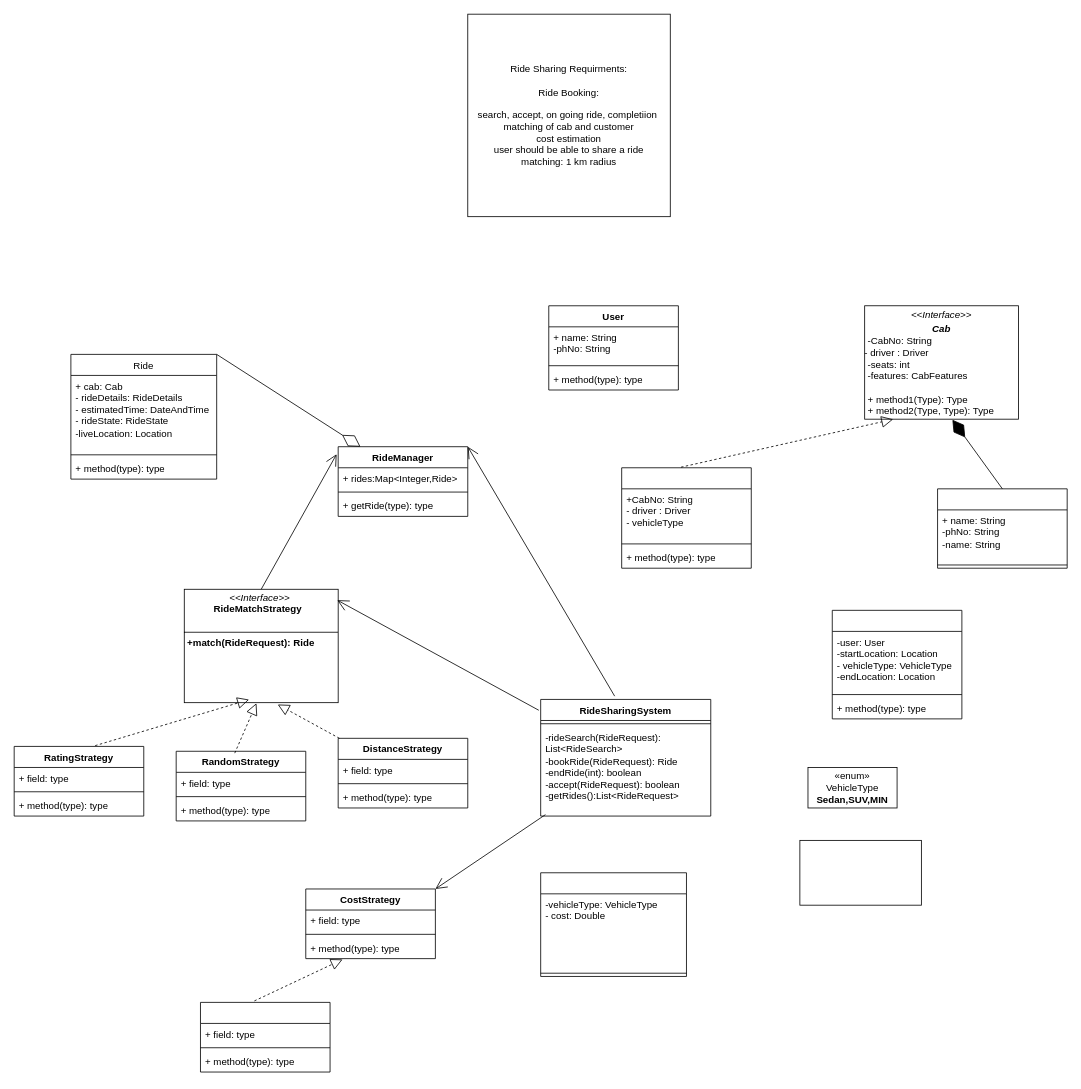
Image size: 1081x1089. Some labels were removed from this diagram. Each missing label, with the box of its shape:
Driver: (937, 488, 1067, 568)
RideRequest: (831, 610, 962, 719)
RideSearch: (540, 872, 686, 976)
SedanCab: (621, 467, 751, 568)
SimpleCostStragey: (200, 1002, 330, 1072)
«enum» RideState Ready, Completed, OnGoing: (799, 840, 921, 905)
